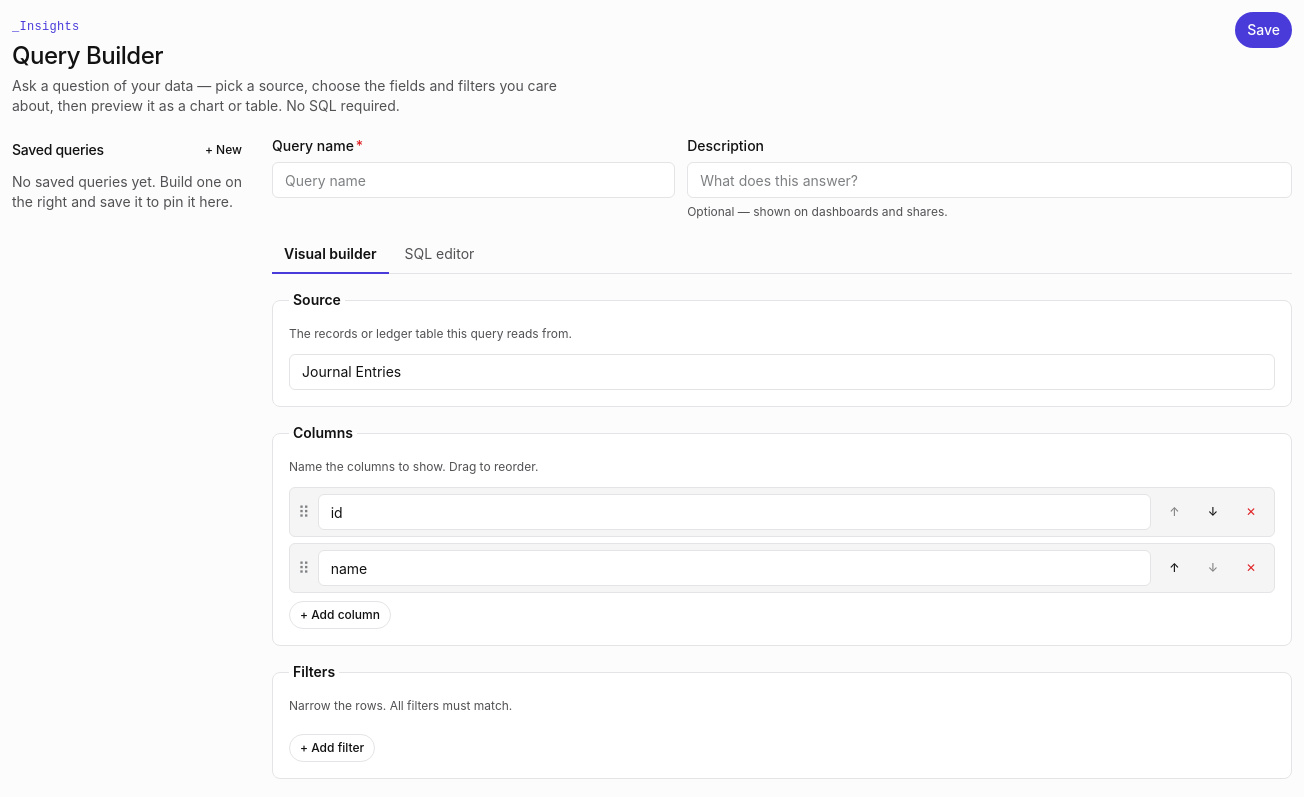
Scenario: InsightsQueryBuilderPage › Visual / SQL tab switch hides the structured sections in SQL mode
Expected: the text "Source" is shown, [289, 290, 345, 310]
Click the tab "SQL editor" at (440, 255), box [393, 236, 486, 274]
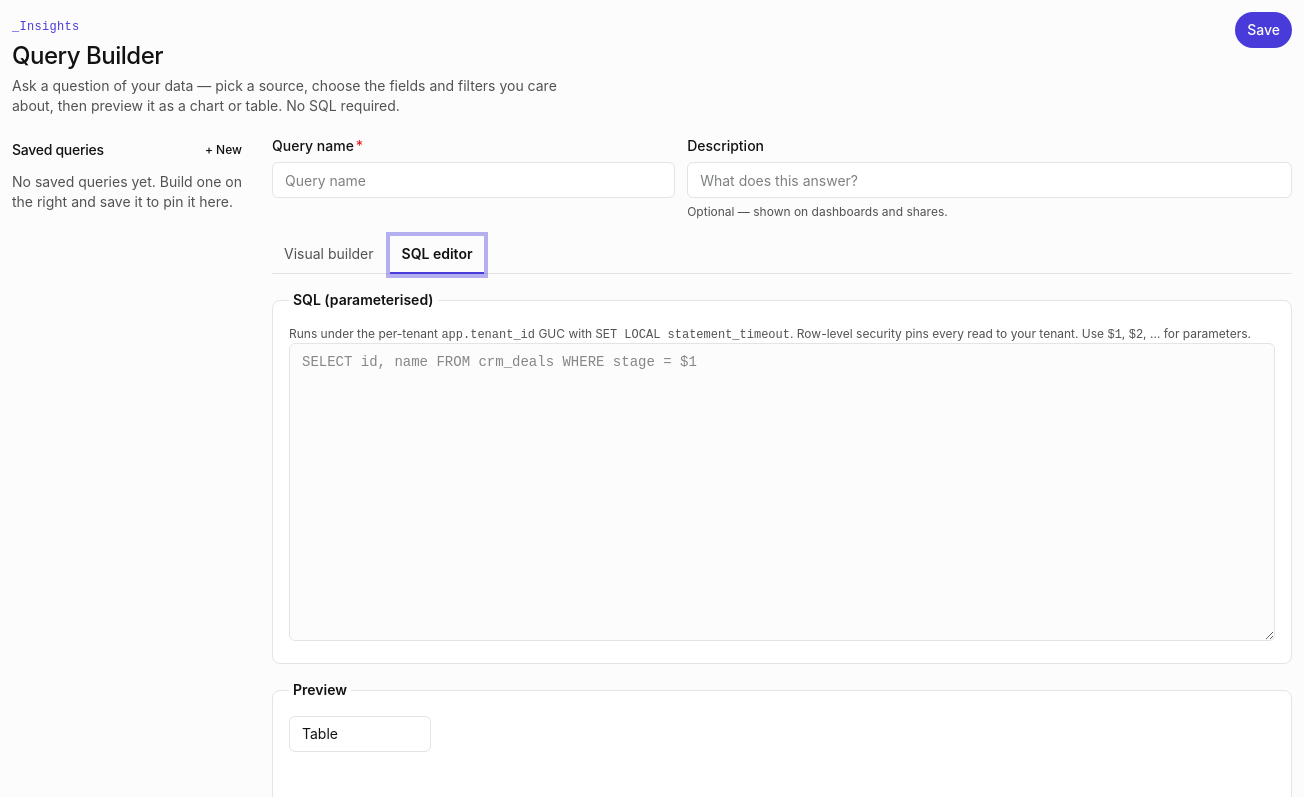
Expected: the text "SQL (parameterised)" is shown, [289, 290, 438, 310]
